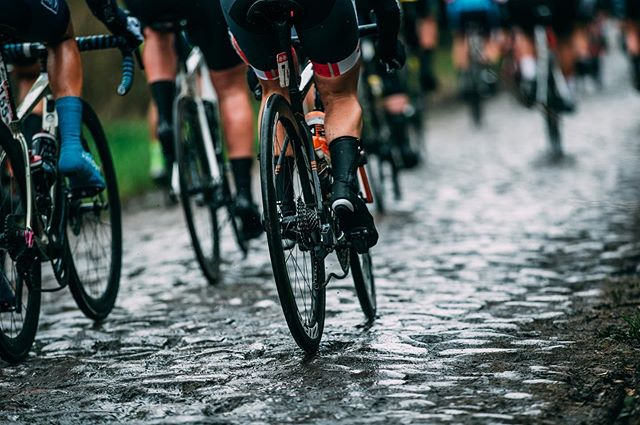bicicle: (241, 81, 419, 320), (1, 96, 126, 370)
road: (17, 122, 633, 419)
